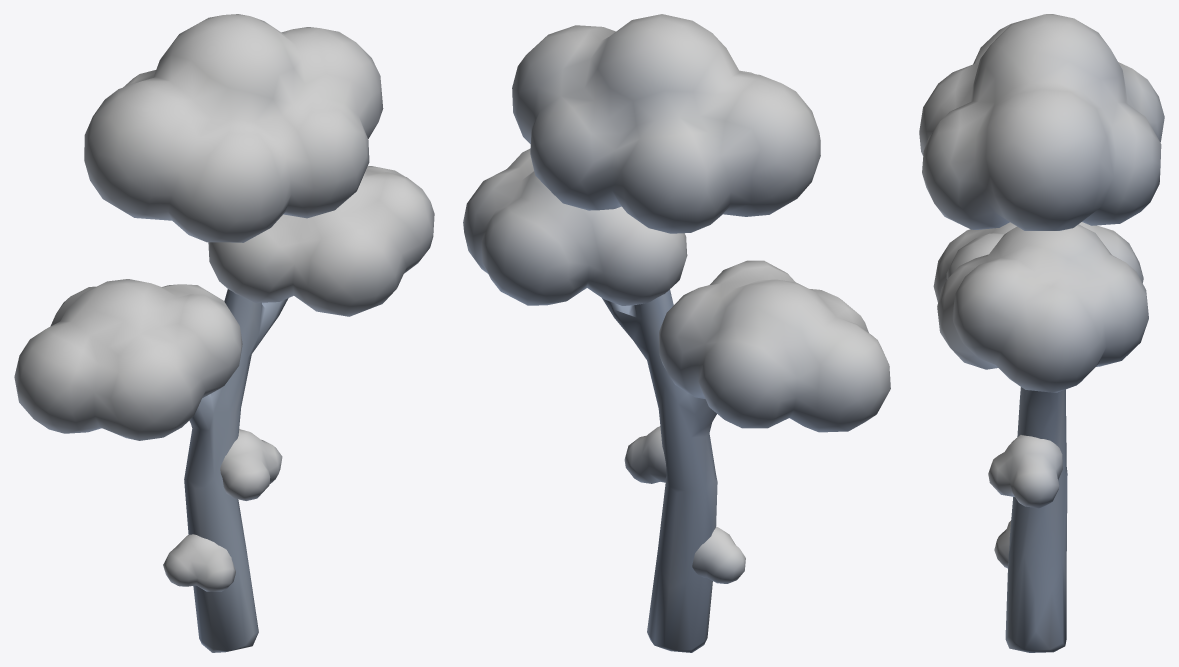
The model's file is Puffwood_Tree.glb.
The picture shows the model from 3 angles, left to right: view 1: azimuth 30°, elevation 25°; view 2: azimuth 150°, elevation 25°; view 3: azimuth 270°, elevation 25°; orthographic projection. The views are drawn at different scales.
Parts seen in each view (by area): view 1: Puffwood_Tree; view 2: Puffwood_Tree; view 3: Puffwood_Tree.
Part boxes in pixels (x1,y1,x2,y2): Puffwood_Tree: [14, 14, 434, 652]; Puffwood_Tree: [463, 14, 890, 652]; Puffwood_Tree: [919, 14, 1164, 652].
Bounding box in the file's own units: 10.07 × 14.63 × 5.16.
